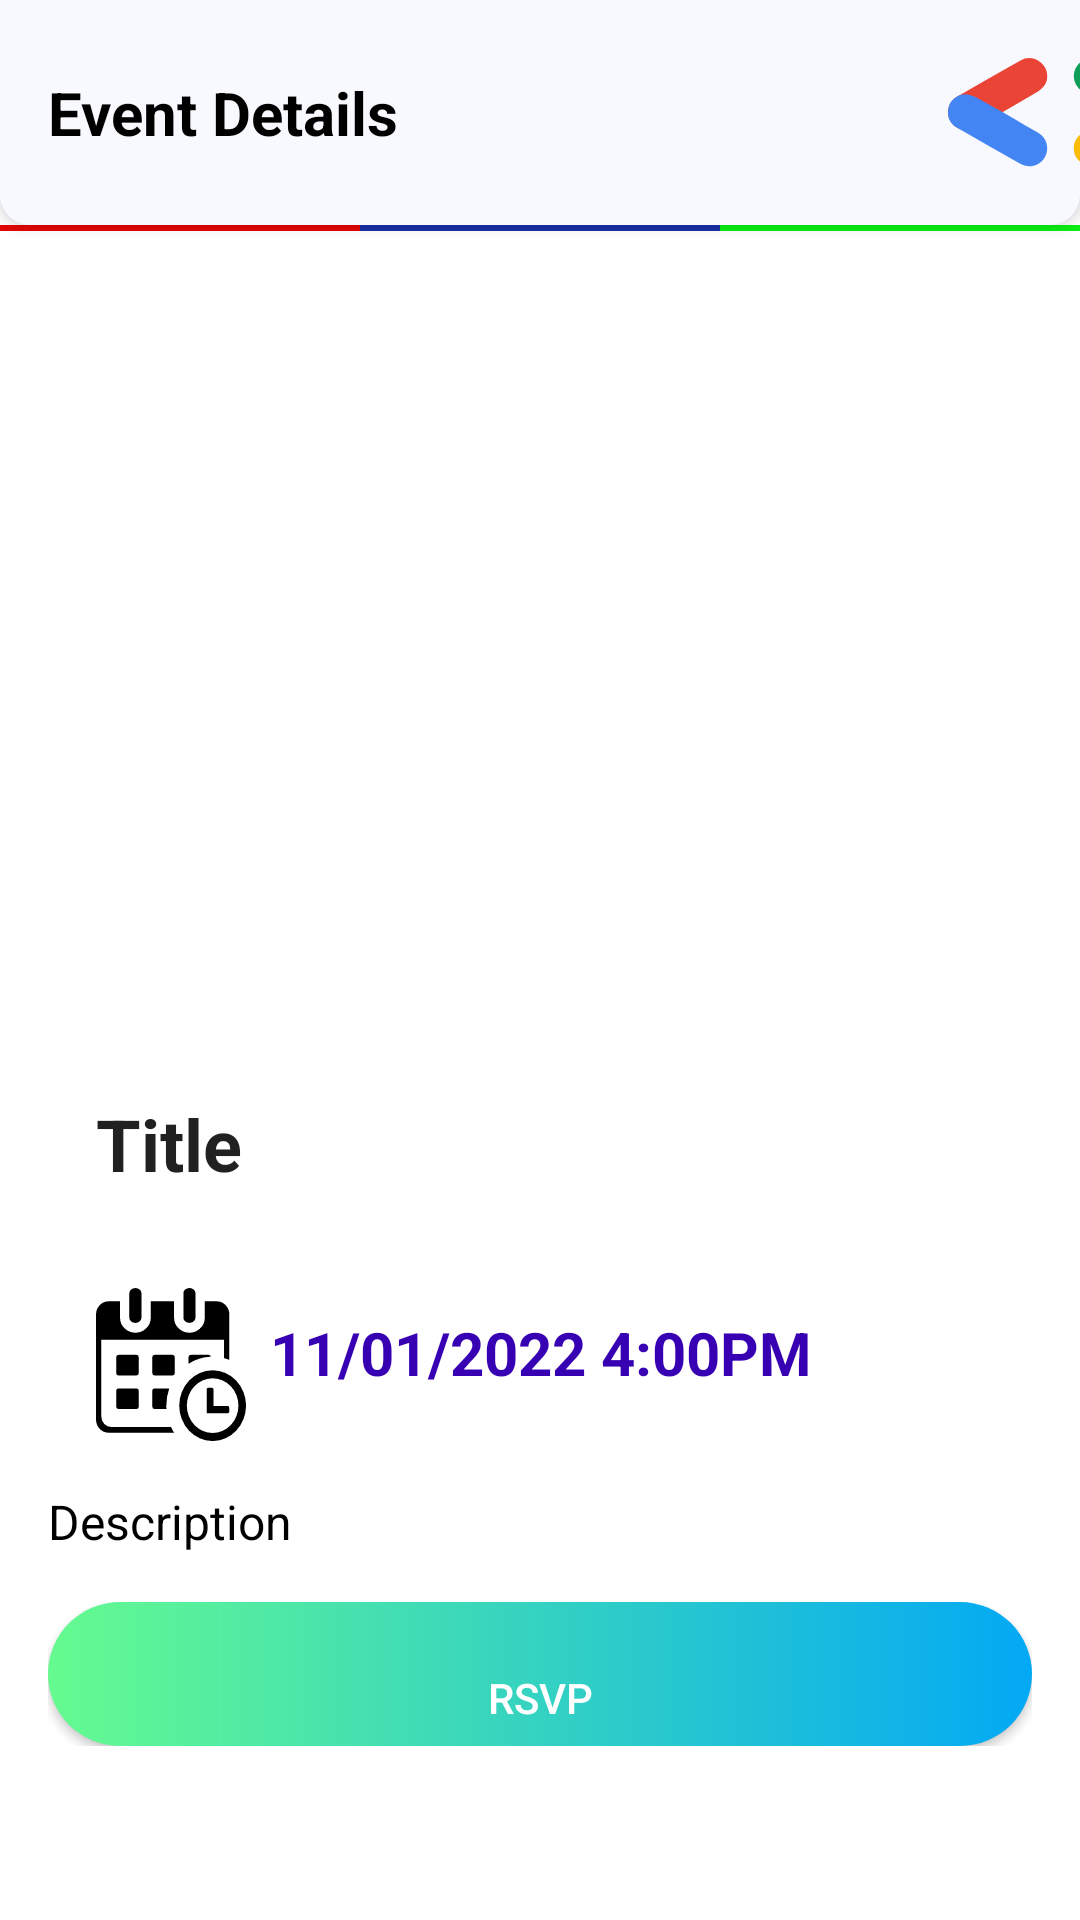

Icons on this 1080*1920 Android screen, each with its box as (x1, y1, x2, y2):
schedule: (96, 1288, 246, 1441)
